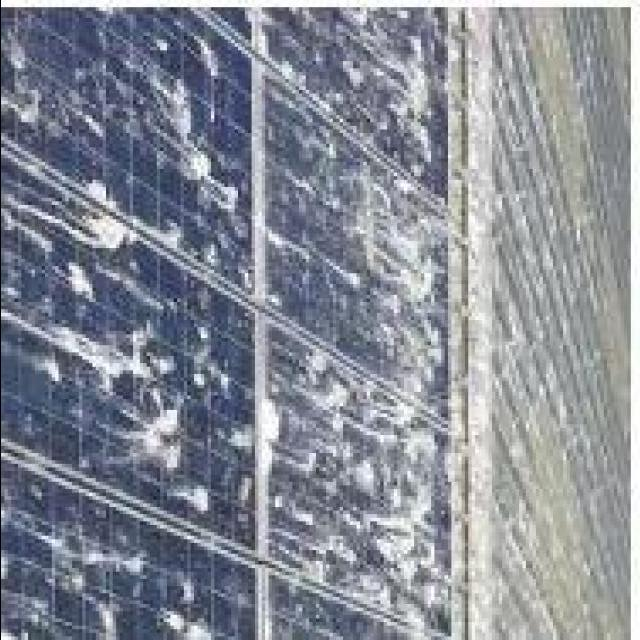soiled: (0, 11, 468, 640)
